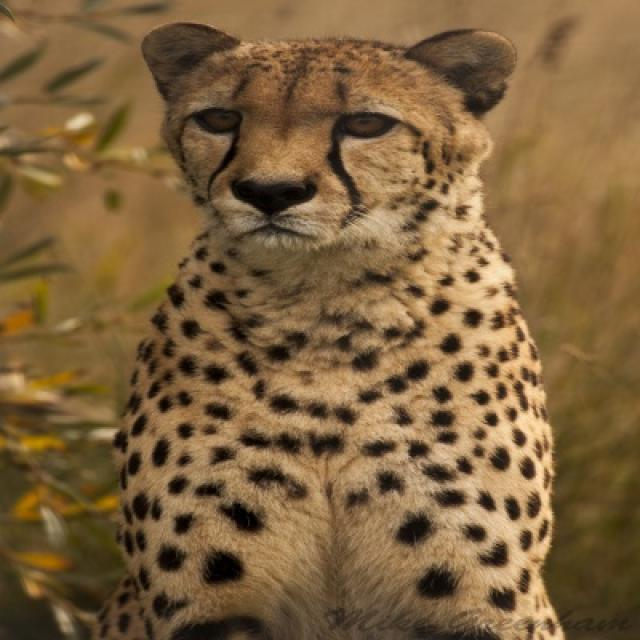Cheetah: (105, 16, 567, 632)
